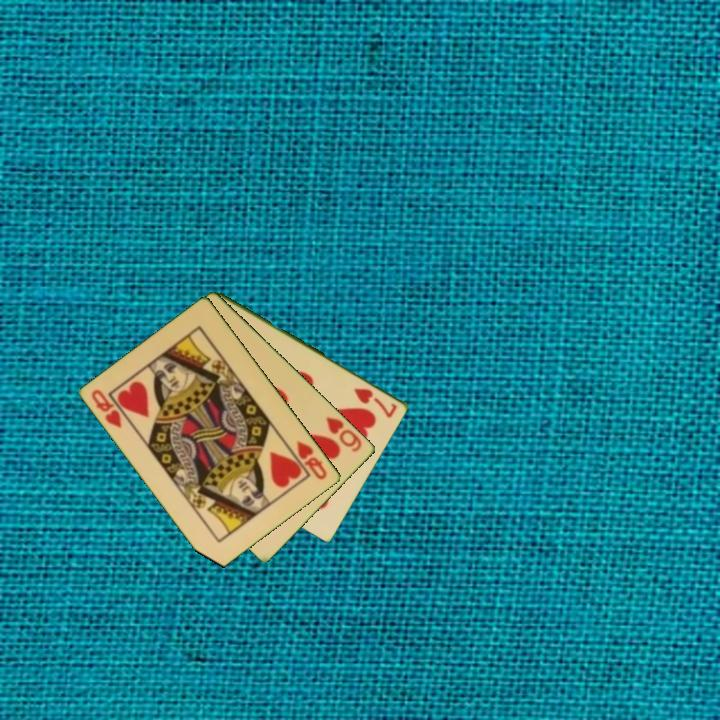6h: (322, 413, 365, 455)
7h: (350, 384, 400, 421)
Qh: (293, 437, 331, 483), (88, 386, 125, 431)
